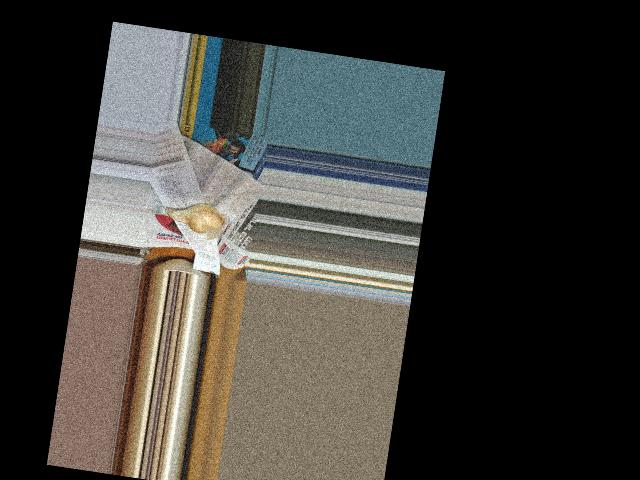onion: (167, 196, 225, 235)
